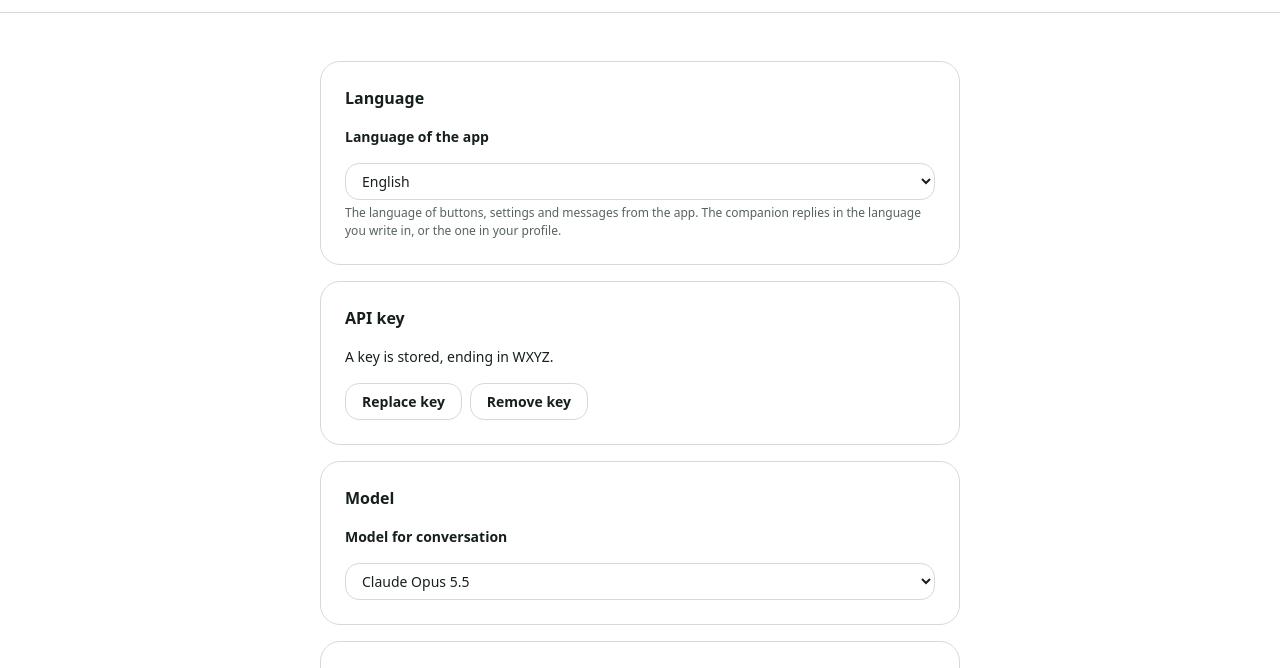
Test: SettingsView › chooses a model from the provider's list
Select "Claude Sonnet 5.5" in the dropdown labelled "Model for conversation" at (640, 582), box [345,563,935,600]
(page scrolled)
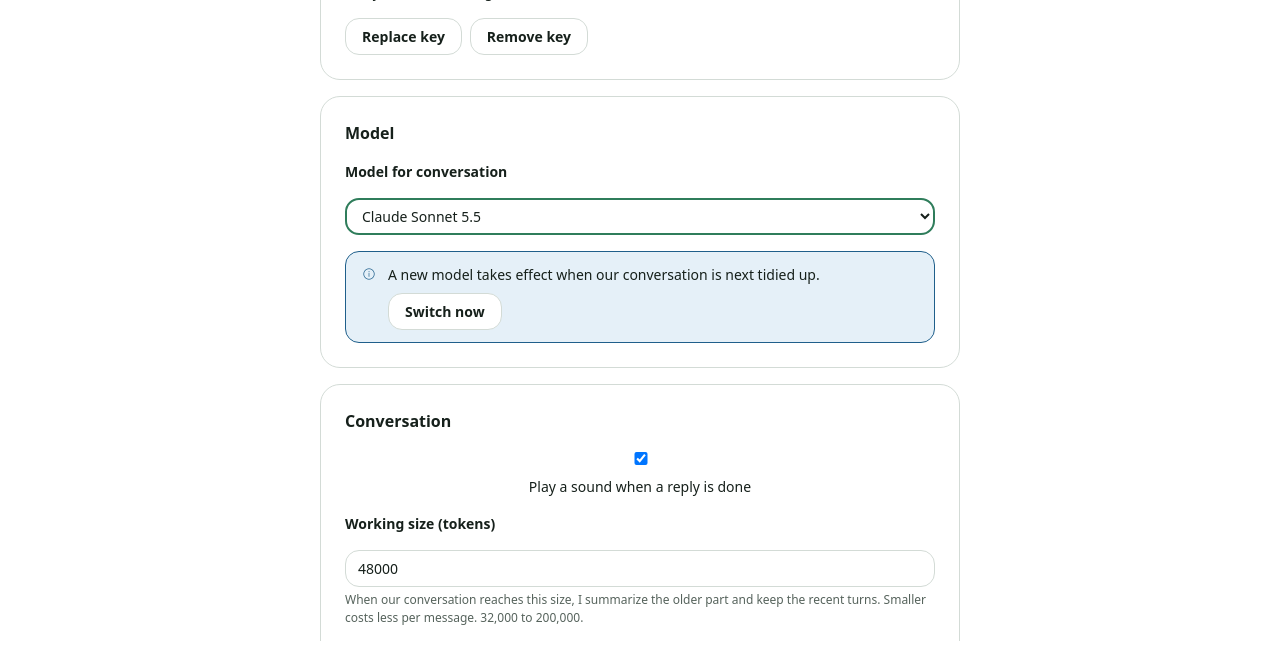
Check: the text "takes effect when our conversation is next tidied up" is shown, box [388,265,820,284]
Click the button "Switch now" at (445, 312), box [388,293,502,330]
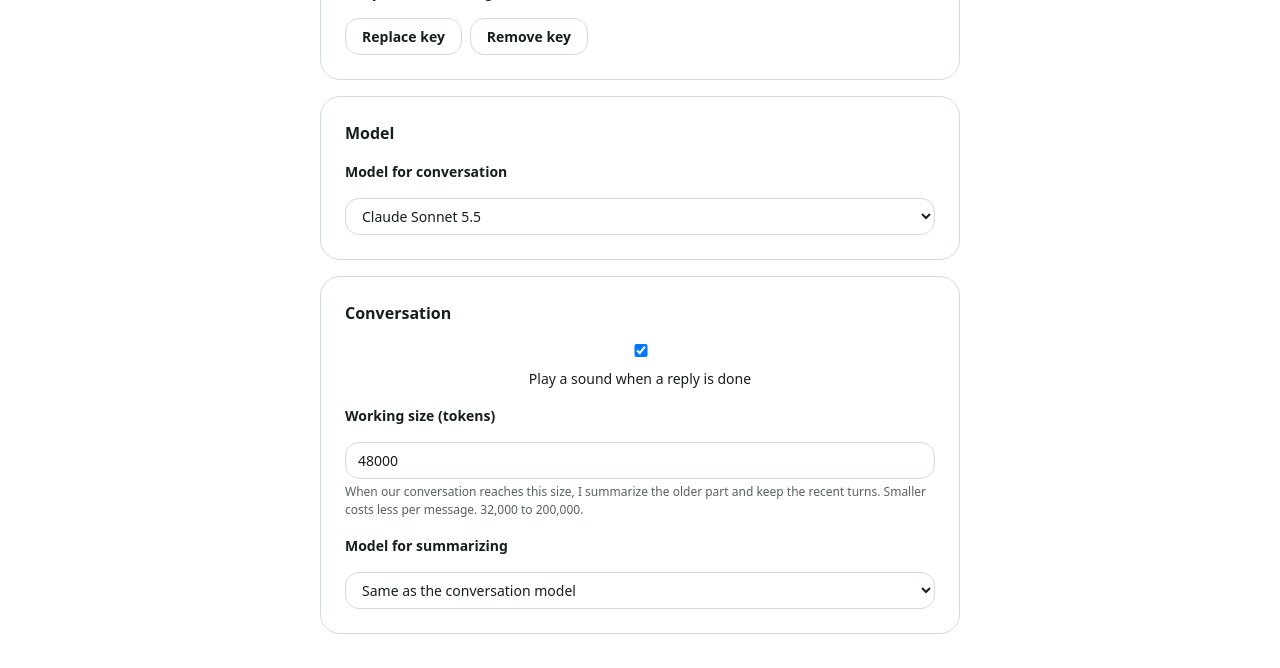
Check: the text "next tidied up" is gone
